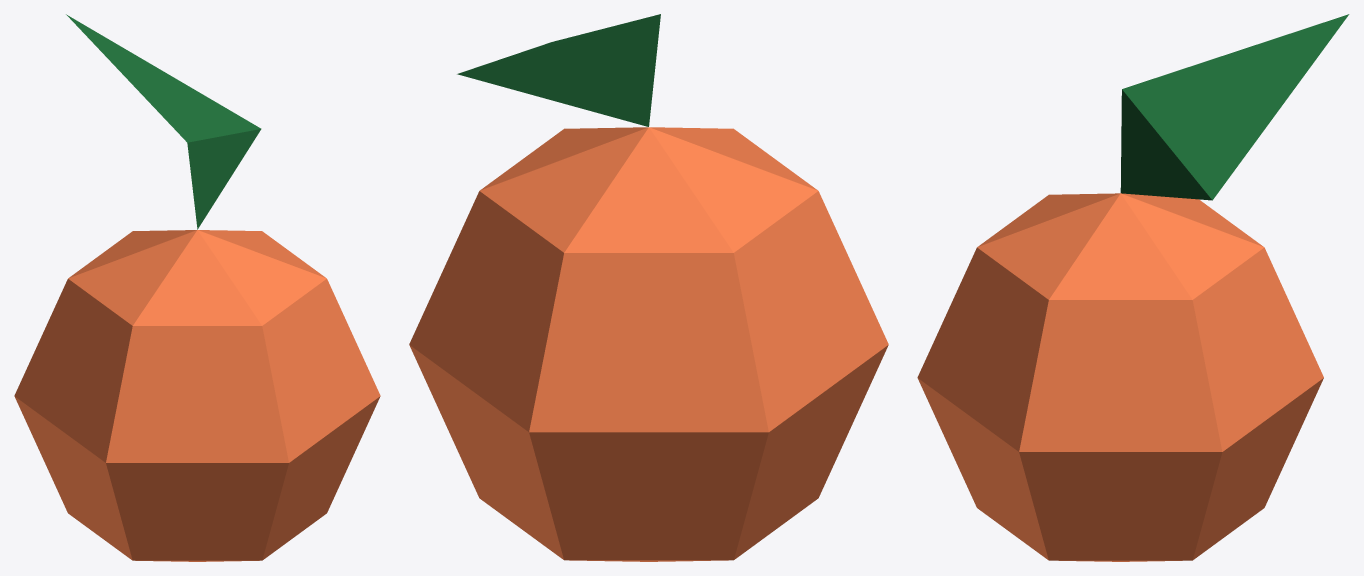
File: Wumpafruit.obj
3 views of the same model, side by side, from view 1: azimuth 30°, elevation 25°; view 2: azimuth 150°, elevation 25°; view 3: azimuth 270°, elevation 25° (orthographic). The views are drawn at different scales.
Visible parts, largest first — view 1: Sphere; view 2: Sphere; view 3: Sphere.
Part boxes in pixels (x1,y1,x2,y2): Sphere: [14, 14, 380, 561]; Sphere: [409, 14, 888, 561]; Sphere: [917, 14, 1349, 561].
Size of the model in its own units: 1.73 by 2.89 by 2.13.
1 material, 1 textured.
